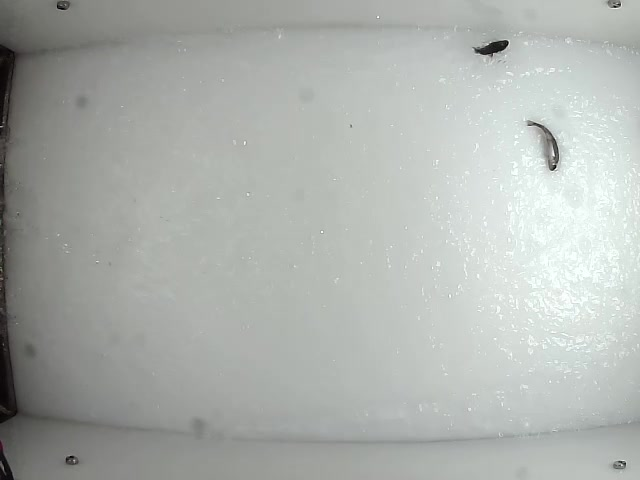fish: (525, 118, 561, 173), (472, 37, 510, 58)
